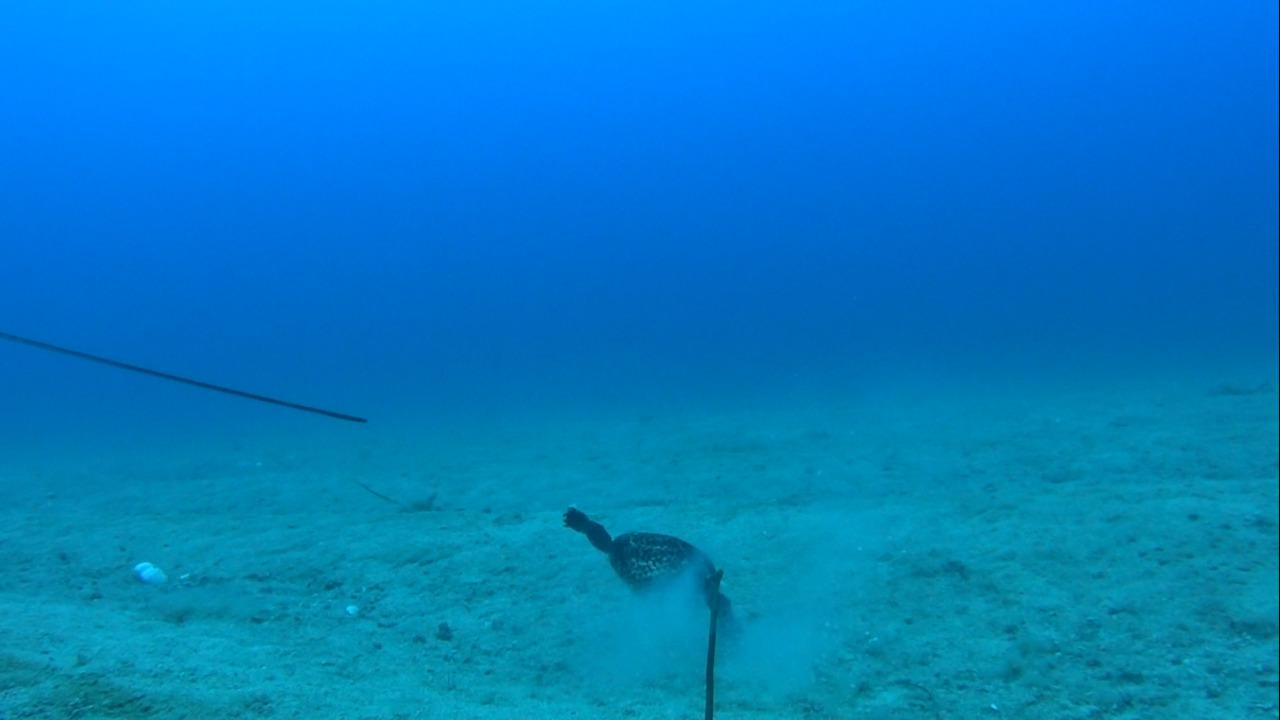myliobatis: (1, 328, 370, 428)
